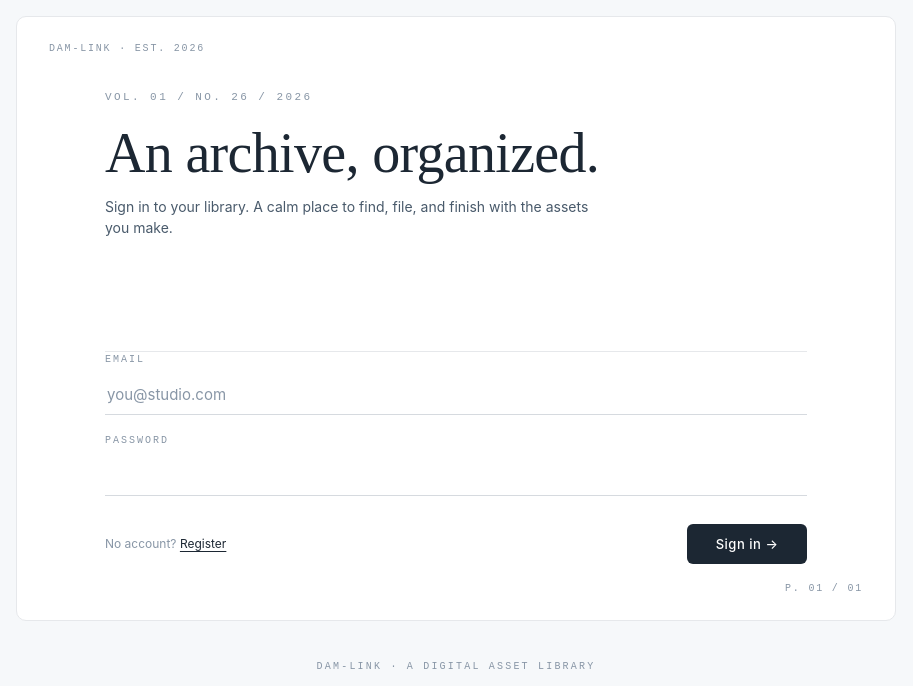
Test: LoginScreen loading state (T6) › shows the Spinner inside the button while the request is in flight
Type "me@studio.com" into the field labelled "Email" at (456, 395), box 105,375 -> 807,415
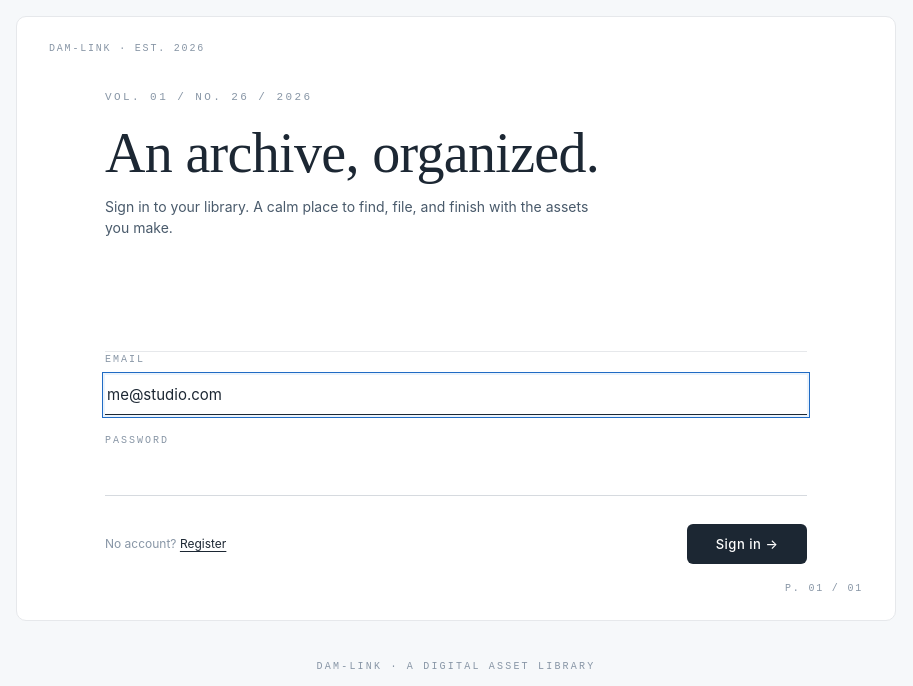
Type "longenoughpassword" into the password field labelled "Password" at (456, 476), box 105,456 -> 807,496
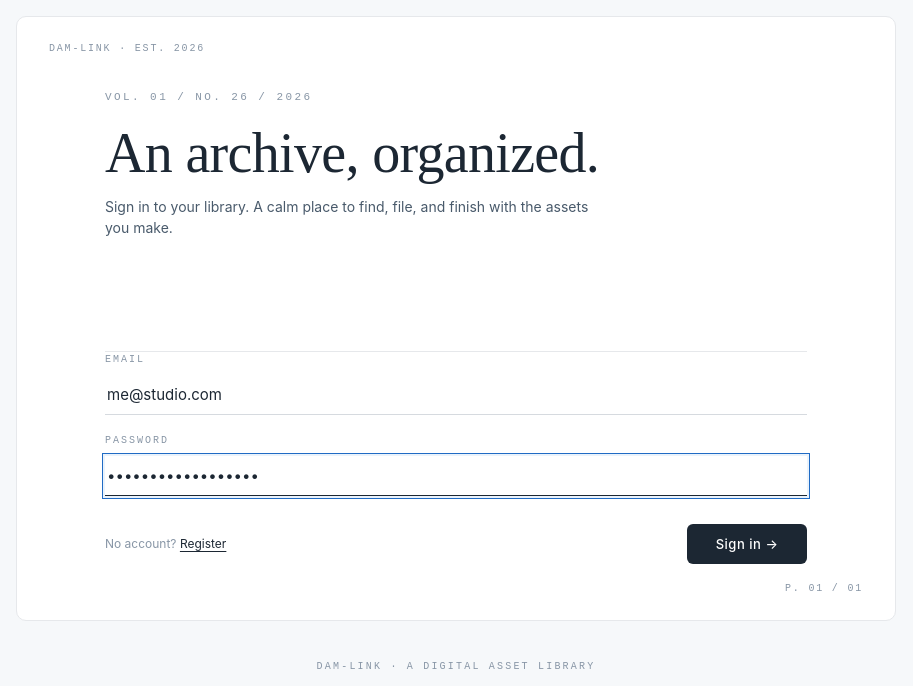
Click the button "Sign in →" at (747, 544), box 687,524 -> 807,564
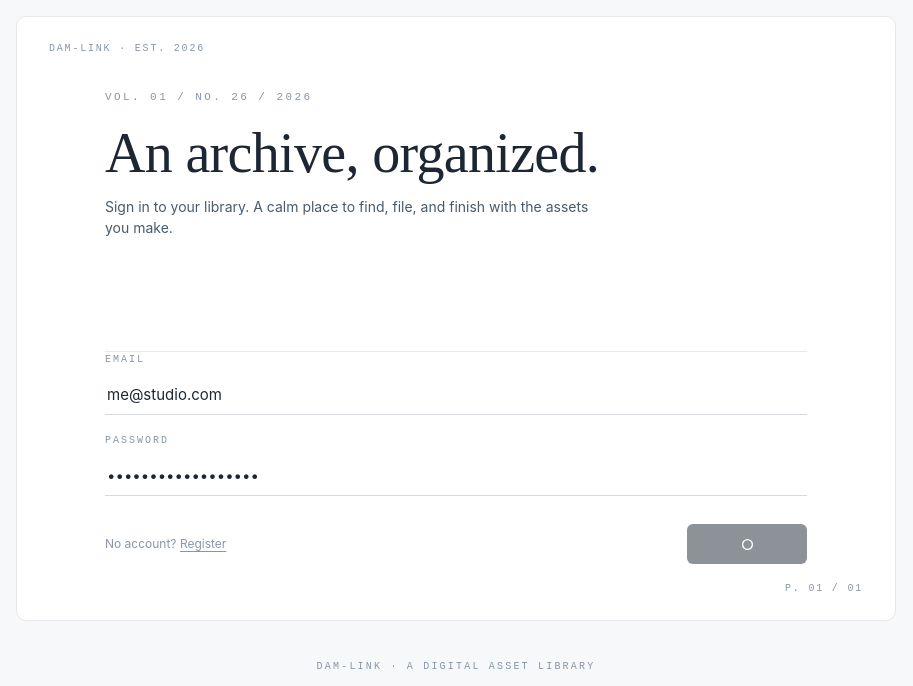
Check: the icon with test id "login-screen-spinner" is shown, box 740,538 -> 754,550
Check: the 2nd button is disabled, box 687,524 -> 807,564
Check: the button "Register" is disabled, box 180,524 -> 226,564
